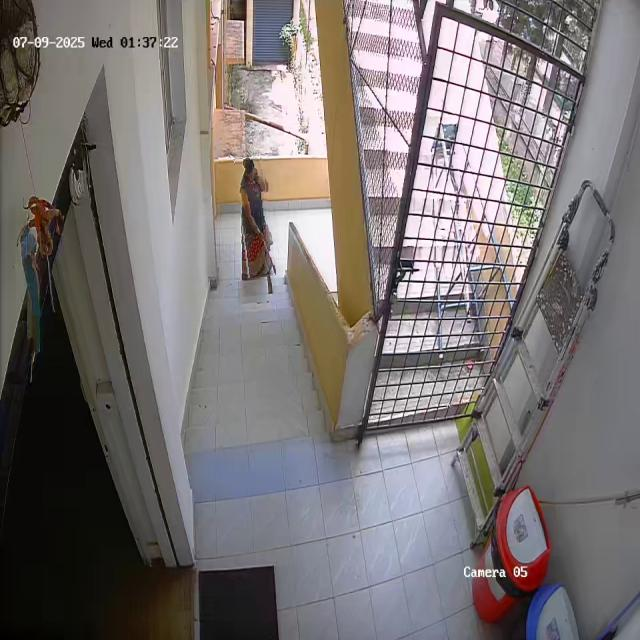person: (236, 155, 273, 278)
